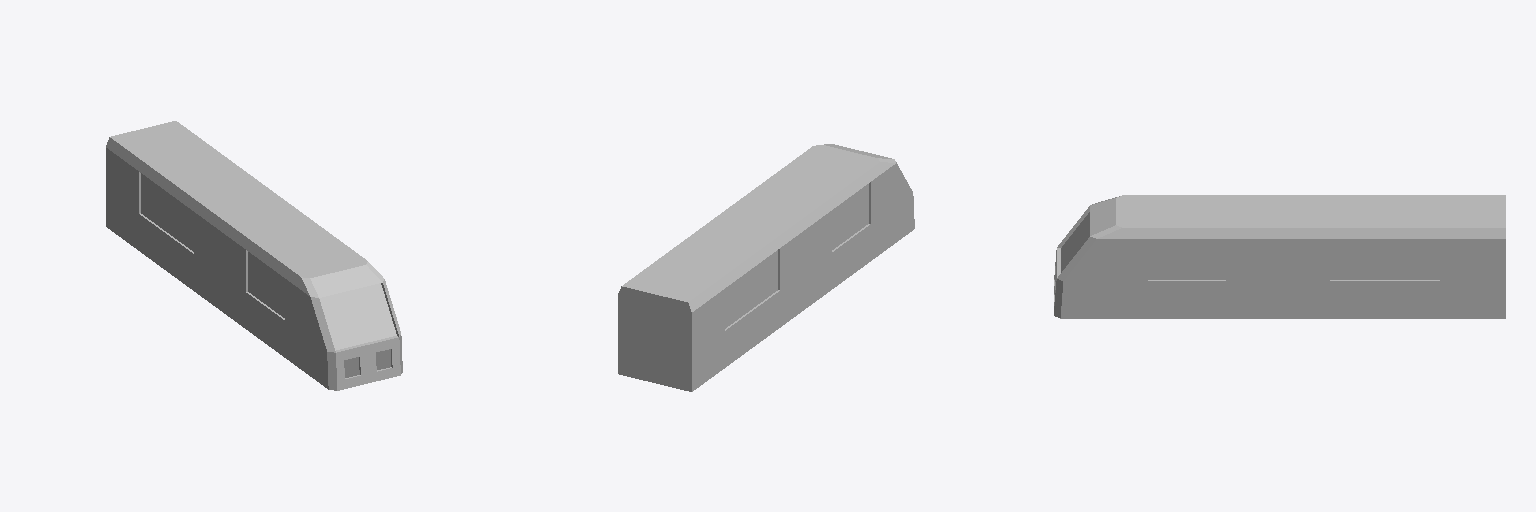
Rendered from TrainEngine.obj.
3 views of the same model, side by side, from view 1: azimuth 30°, elevation 25°; view 2: azimuth 150°, elevation 25°; view 3: azimuth 270°, elevation 25° (orthographic).
Parts seen in each view (by area): view 1: TrainCarrage.001_Cube.006; view 2: TrainCarrage.001_Cube.006; view 3: TrainCarrage.001_Cube.006.
Part boxes in pixels (bbox=[...]): TrainCarrage.001_Cube.006: bbox=[106, 121, 402, 390]; TrainCarrage.001_Cube.006: bbox=[618, 144, 914, 391]; TrainCarrage.001_Cube.006: bbox=[1054, 195, 1505, 318].
Bounding box in the file's own units: 4 × 4.57 × 21.11.